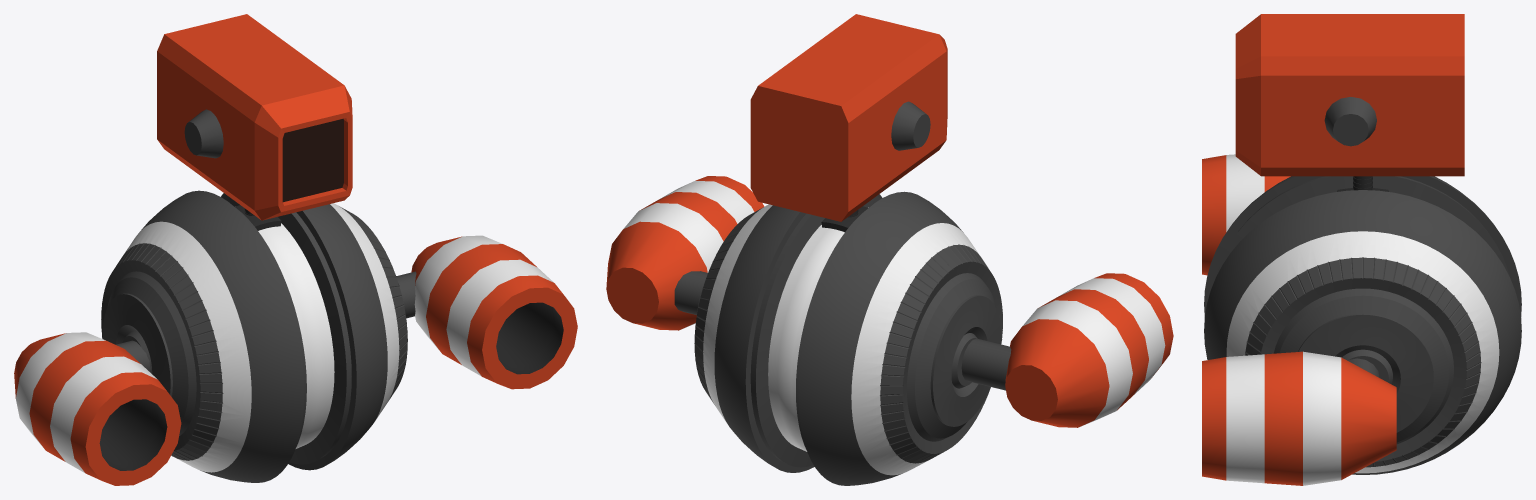
File: robot.fbx
3 renders of one model, left to right at view 1: azimuth 30°, elevation 25°; view 2: azimuth 150°, elevation 25°; view 3: azimuth 270°, elevation 25°, orthographic. The views are drawn at different scales.
Parts seen in each view (by area): view 1: robot legs, robot hands, robot head, robot ears; view 2: robot legs, robot hands, robot head, robot ears; view 3: robot legs, robot head, robot hands, robot ears.
Part boxes in pixels (<box>): robot legs: <box>101,190,407,482</box>; robot hands: <box>14,235,577,485</box>; robot head: <box>157,14,352,220</box>; robot ears: <box>184,109,223,158</box>; robot legs: <box>694,191,1002,485</box>; robot hands: <box>606,176,1173,427</box>; robot head: <box>750,14,947,221</box>; robot ears: <box>891,101,930,150</box>; robot legs: <box>1204,176,1521,474</box>; robot head: <box>1235,14,1464,176</box>; robot hands: <box>1202,154,1396,485</box>; robot ears: <box>1324,97,1376,146</box>.
Bounding box in the file's own units: 241 × 184 × 126.
